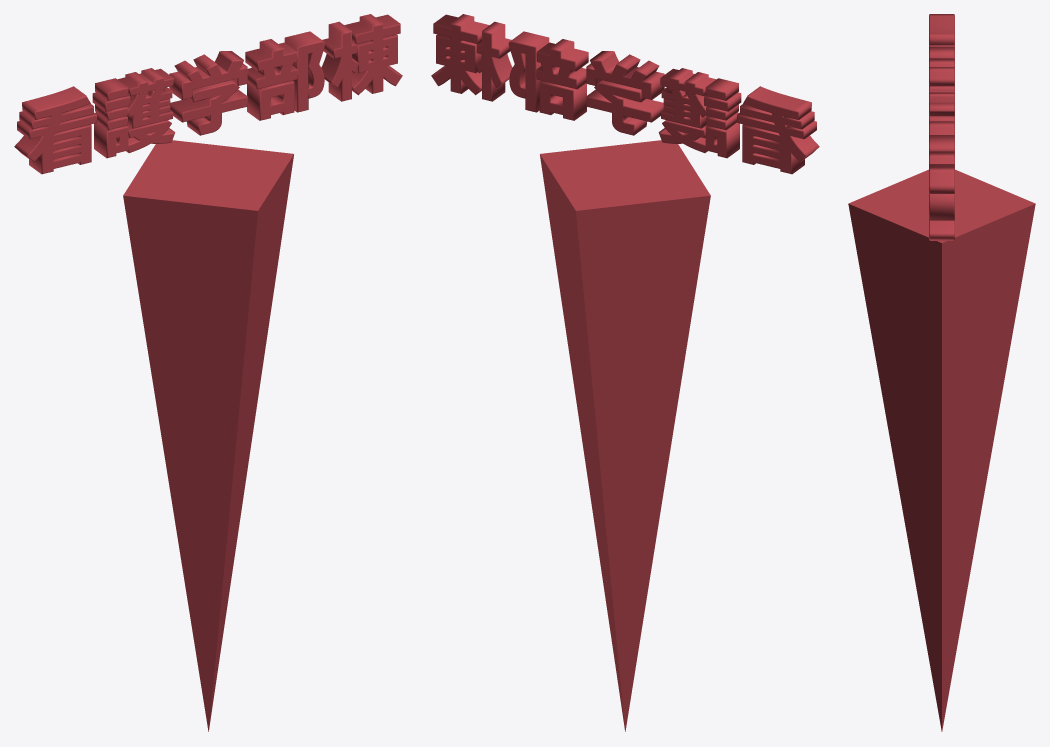
The model's file is Kangogakubutou.glb.
3 renders of one model, left to right at view 1: azimuth 30°, elevation 25°; view 2: azimuth 150°, elevation 25°; view 3: azimuth 270°, elevation 25°, orthographic. The views are drawn at different scales.
Parts seen in each view (by area): view 1: Cone, Text.002; view 2: Cone, Text.002; view 3: Cone, Text.002.
Boxes of the visible parts, x1=… form: Cone: x1=123, y1=140, x2=293, y2=731; Text.002: x1=14, y1=14, x2=402, y2=174; Cone: x1=540, y1=140, x2=710, y2=731; Text.002: x1=431, y1=14, x2=819, y2=174; Cone: x1=848, y1=169, x2=1035, y2=731; Text.002: x1=929, y1=14, x2=954, y2=240.
Bounding box in the file's own units: 3.53 × 6.03 × 1.6.
